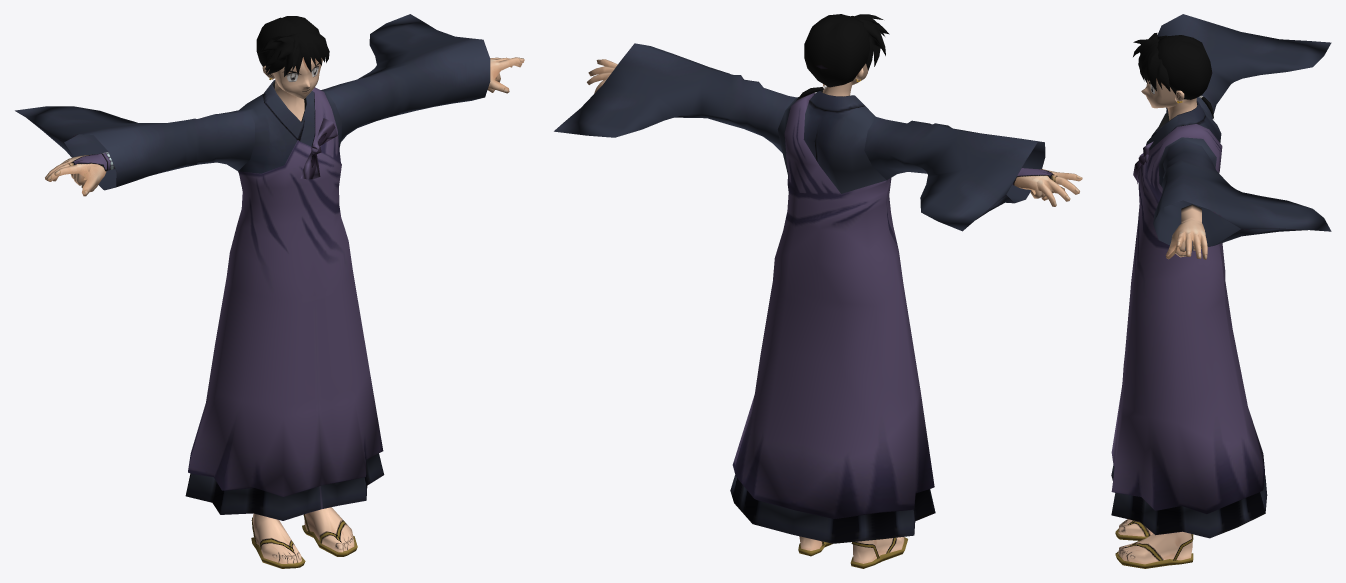
3 views of the same model, side by side, from view 1: azimuth 30°, elevation 25°; view 2: azimuth 150°, elevation 25°; view 3: azimuth 270°, elevation 25° (orthographic). The views are drawn at different scales.
Visible parts, largest first — view 1: mesh0_body_0, mesh1_cloth_0, mesh5_handtop2_0, mesh2_face_0, mesh4_handtop_0; view 2: mesh0_body_0, mesh1_cloth_0, mesh5_handtop2_0; view 3: mesh0_body_0, mesh1_cloth_0, mesh4_handtop_0, mesh2_face_0.
Part boxes in pixels (x1,y1,x2,y2): mesh0_body_0: (185, 80, 384, 520); mesh1_cloth_0: (15, 14, 490, 568); mesh5_handtop2_0: (45, 154, 106, 196); mesh2_face_0: (273, 57, 322, 99); mesh4_handtop_0: (487, 57, 524, 93); mesh0_body_0: (730, 90, 935, 543); mesh1_cloth_0: (554, 14, 1045, 568); mesh5_handtop2_0: (1014, 168, 1082, 206); mesh0_body_0: (1111, 100, 1267, 538); mesh1_cloth_0: (1115, 14, 1331, 568); mesh4_handtop_0: (1165, 219, 1207, 259); mesh2_face_0: (1141, 78, 1176, 108).
Size of the model in its own units: 6.63 by 6.94 by 2.72.
Materials: 6 (6 with a texture image).
